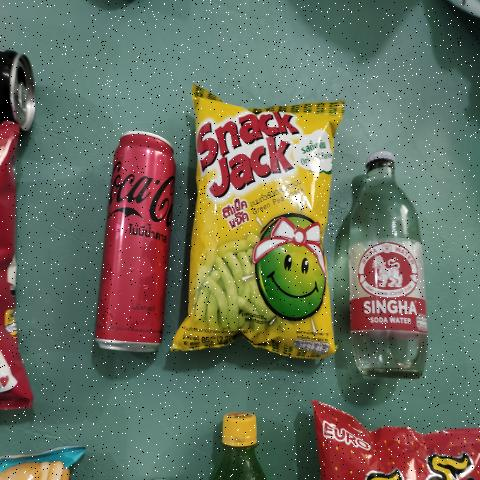coke_red: (92, 123, 182, 366)
singha_soda: (346, 154, 427, 379)
snack_jack: (198, 111, 320, 338)
